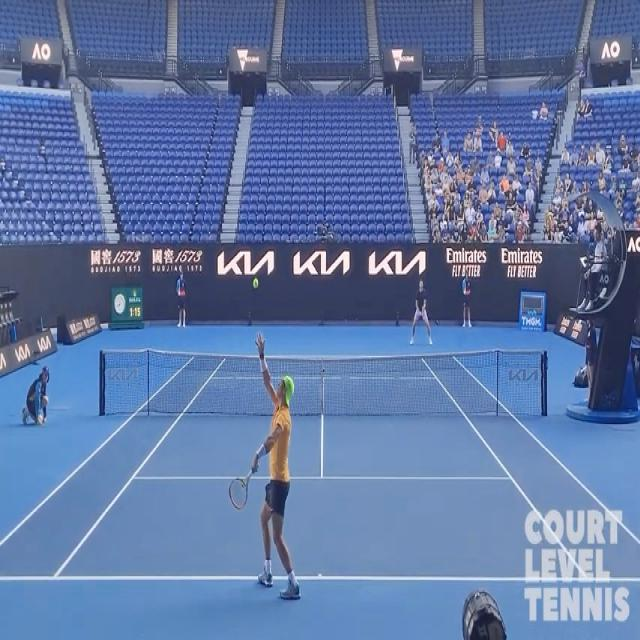serve_toss: (227, 333, 302, 605)
